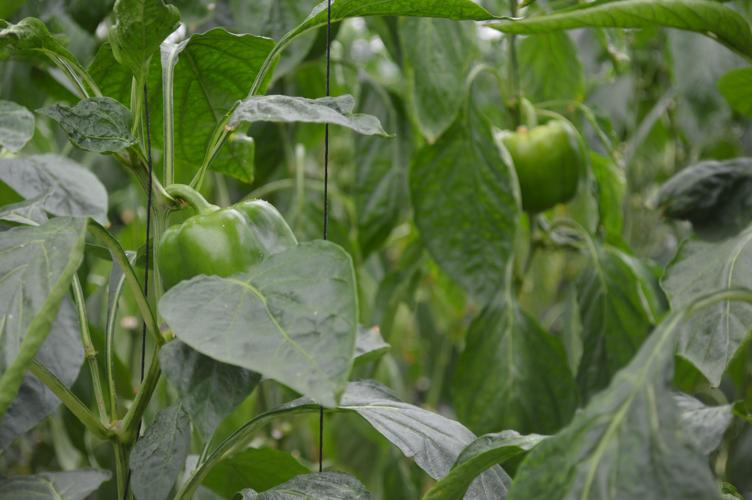BellPepper: (149, 201, 296, 276), (488, 121, 575, 216)
